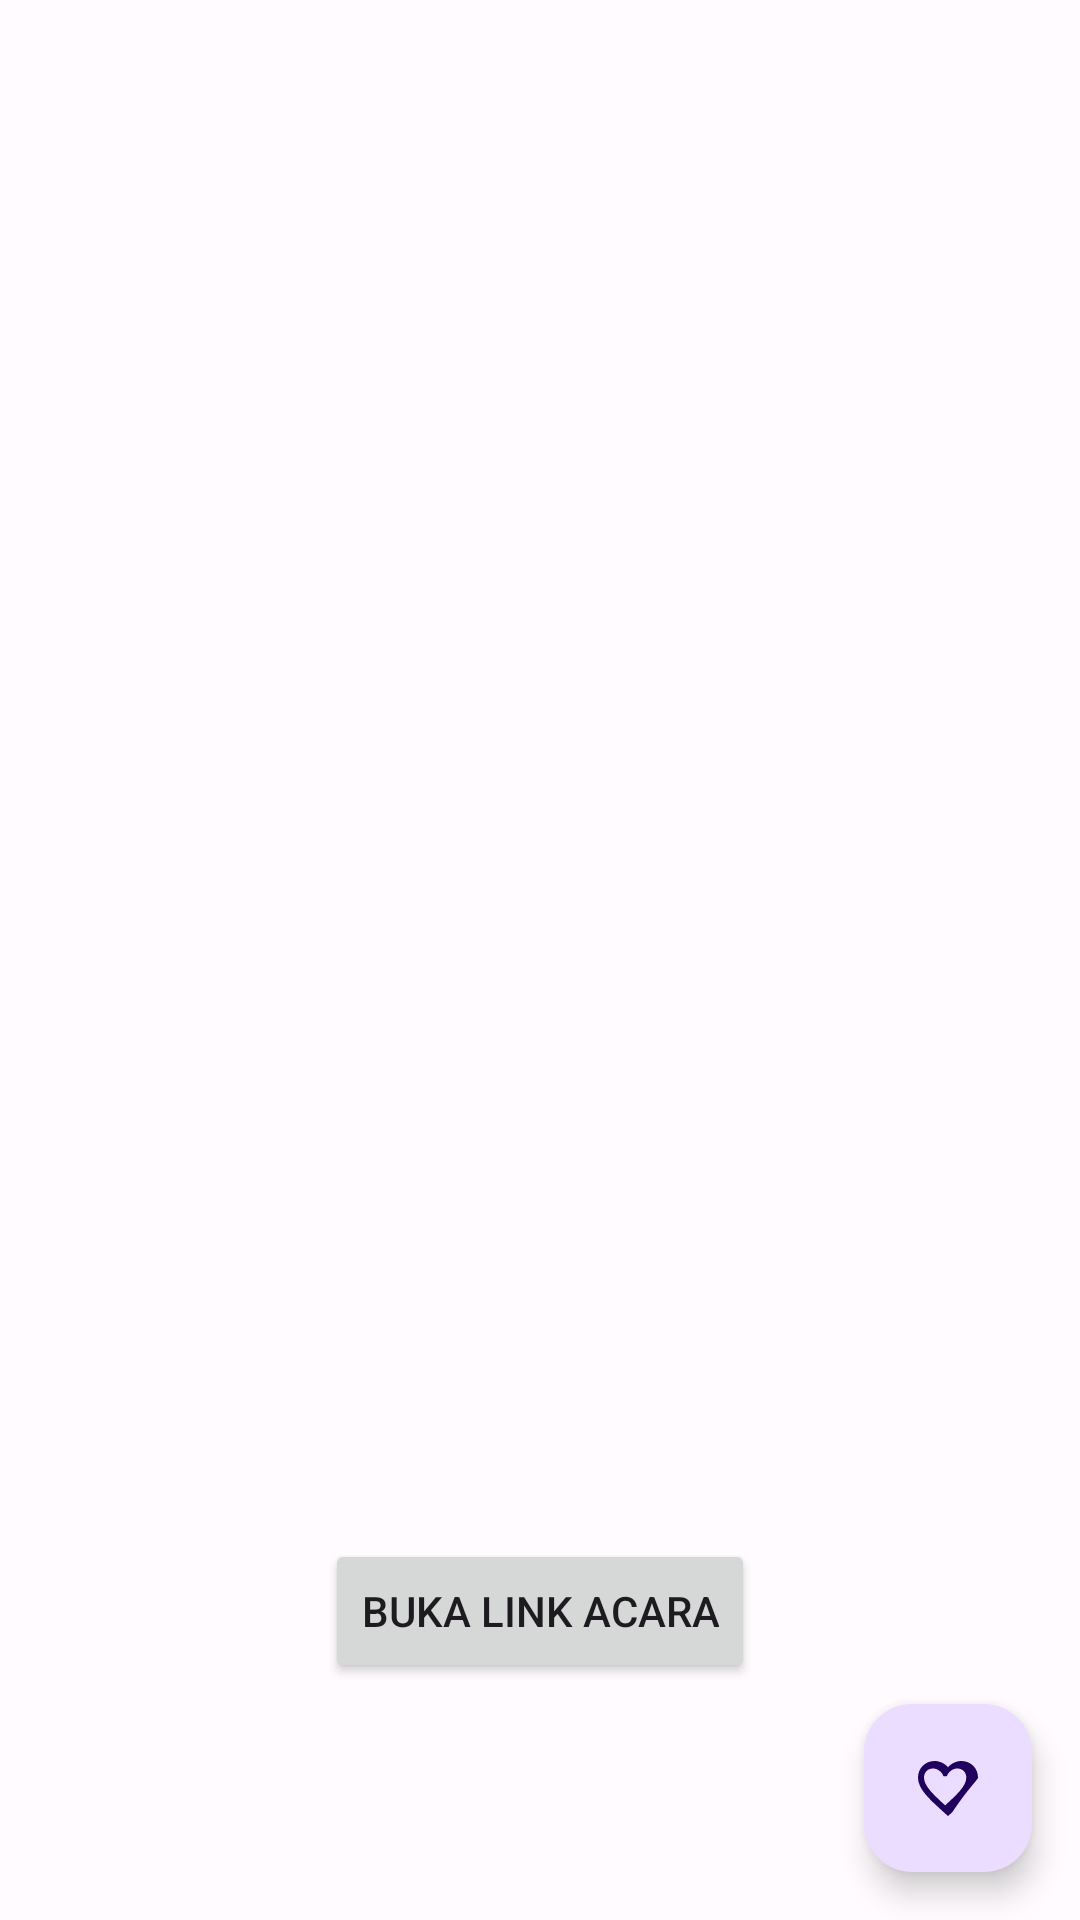

Icons on this 1080px x 1920px Android screen, each with its box as Rect(x1, y1, x2, y2):
favorite border: Rect(864, 1704, 1032, 1872)
